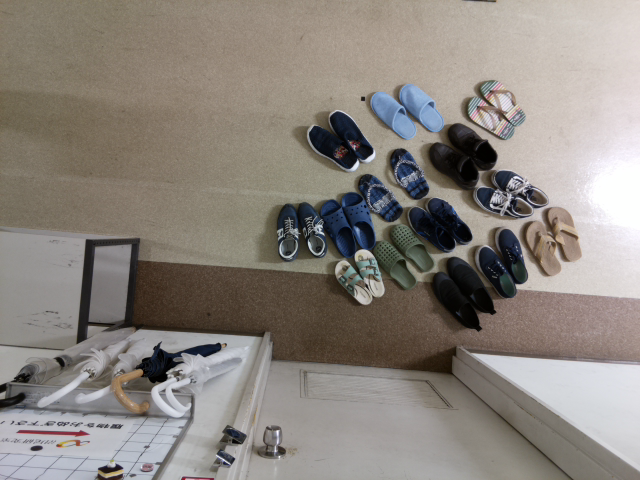Copy of Copy of Copy of Copy of Copy of Copy of Copy of Copy of Copy of Copy of: (406, 205, 456, 251), (491, 168, 548, 207), (425, 197, 472, 244), (473, 186, 533, 217)
Copy of Copy of Copy of Copy of Copy of Copy of Copy of Copy of Copy of shoes: (432, 272, 482, 332)
Copy of Copy of Copy of Copy of Copy of Copy of Copy of Copy of shoes: (446, 256, 496, 315)
Copy of Copy of Copy of Copy of Copy of Copy of Copy of sandal: (334, 260, 371, 306)
Copy of Copy of Copy of Copy of Copy of Copy of Copy of shoes: (475, 244, 517, 298)
Copy of Copy of Copy of Copy of Copy of Copy of sandal: (353, 248, 384, 297)
Copy of Copy of Copy of Copy of Copy of Copy of shoes: (494, 226, 529, 284)
Copy of Copy of Copy of Copy of Copy of sandal: (479, 79, 525, 126)
Copy of Copy of Copy of Copy of Copy of shoes: (428, 141, 478, 188)
Copy of Copy of Copy of Copy of Copy of slipper: (398, 83, 443, 132)
Copy of Copy of Copy of Copy of sandal: (466, 96, 514, 139)
Copy of Copy of Copy of Copy of shoes: (447, 122, 497, 171)
Copy of Copy of Copy of Copy of slipper: (369, 91, 416, 139)
Copy of Copy of Copy of sandal: (389, 148, 428, 199)
Copy of Copy of Copy of shoes: (276, 202, 299, 262)
Copy of Copy of Copy of slipper: (319, 199, 355, 257)
Copy of Copy of sandal: (358, 173, 403, 223)
Copy of Copy of shoes: (297, 201, 327, 258)
Copy of Copy of slipper: (340, 191, 376, 247)
Copy of sandal: (524, 220, 562, 276)
Copy of shoes: (306, 124, 359, 172)
Copy of slipper: (388, 222, 434, 271)
sandal: (546, 206, 582, 262)
shoes: (327, 109, 376, 163)
slipper: (373, 240, 416, 289)
